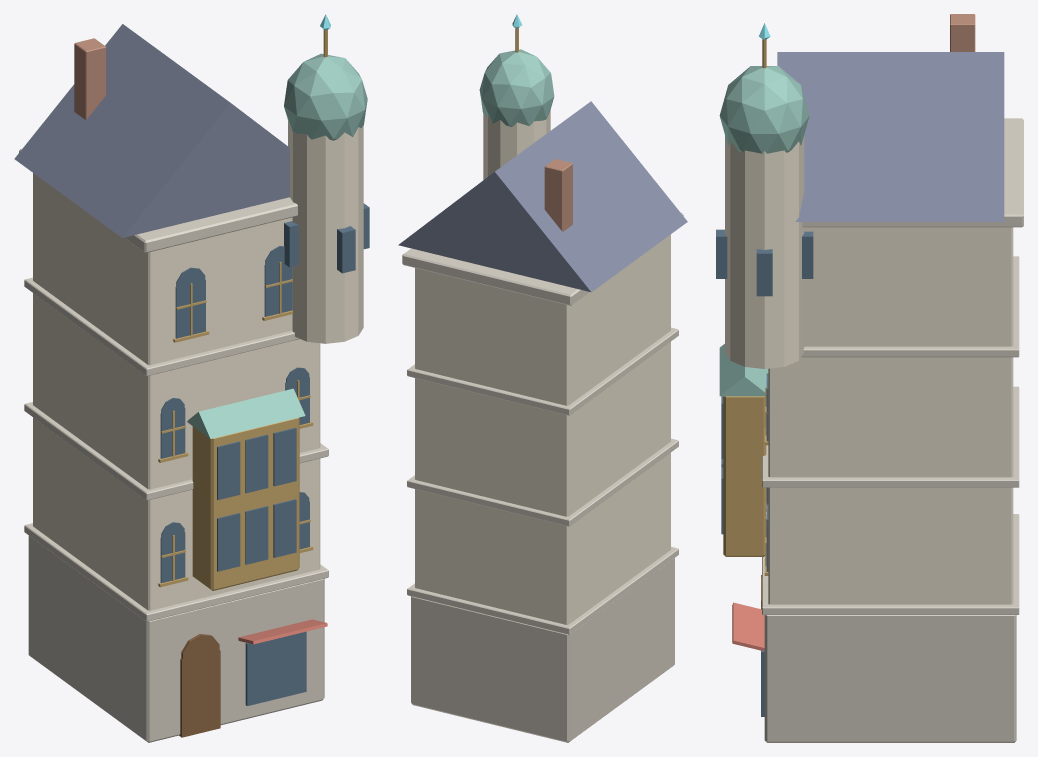
File: Cite_MaisonB.fbx
The picture shows the model from 3 angles, left to right: view 1: azimuth 30°, elevation 25°; view 2: azimuth 150°, elevation 25°; view 3: azimuth 270°, elevation 25°; orthographic projection. The views are drawn at different scales.
Visible parts, largest first — view 1: Cite_MaisonB_Enduit, Cite_MaisonB_Pierre, Cite_MaisonB_Ardoise, Cite_MaisonB_Vitre, Cite_MaisonB_Laiton, Cite_MaisonB_Cuivre, Cite_MaisonB_Bois, Cite_MaisonB_Brique, Cite_MaisonB_Toile; view 2: Cite_MaisonB_Enduit, Cite_MaisonB_Pierre, Cite_MaisonB_Ardoise, Cite_MaisonB_Cuivre, Cite_MaisonB_Brique; view 3: Cite_MaisonB_Enduit, Cite_MaisonB_Pierre, Cite_MaisonB_Ardoise, Cite_MaisonB_Cuivre, Cite_MaisonB_Laiton, Cite_MaisonB_Vitre, Cite_MaisonB_Toile, Cite_MaisonB_Brique.
Boxes of the visible parts, bbox=[...] form: Cite_MaisonB_Enduit: bbox=[33, 121, 363, 610]; Cite_MaisonB_Pierre: bbox=[19, 149, 328, 742]; Cite_MaisonB_Ardoise: bbox=[14, 24, 289, 237]; Cite_MaisonB_Vitre: bbox=[160, 203, 369, 705]; Cite_MaisonB_Laiton: bbox=[158, 29, 327, 590]; Cite_MaisonB_Cuivre: bbox=[187, 53, 367, 438]; Cite_MaisonB_Bois: bbox=[179, 634, 220, 737]; Cite_MaisonB_Brique: bbox=[74, 38, 106, 119]; Cite_MaisonB_Toile: bbox=[238, 619, 327, 644]; Cite_MaisonB_Enduit: bbox=[415, 110, 670, 624]; Cite_MaisonB_Pierre: bbox=[402, 212, 683, 742]; Cite_MaisonB_Ardoise: bbox=[398, 101, 687, 292]; Cite_MaisonB_Cuivre: bbox=[479, 49, 554, 126]; Cite_MaisonB_Brique: bbox=[544, 159, 572, 231]; Cite_MaisonB_Enduit: bbox=[725, 135, 1013, 604]; Cite_MaisonB_Pierre: bbox=[762, 118, 1023, 742]; Cite_MaisonB_Ardoise: bbox=[777, 52, 1004, 221]; Cite_MaisonB_Cuivre: bbox=[719, 66, 809, 396]; Cite_MaisonB_Laiton: bbox=[723, 39, 768, 575]; Cite_MaisonB_Vitre: bbox=[716, 229, 813, 716]; Cite_MaisonB_Toile: bbox=[732, 602, 764, 650]; Cite_MaisonB_Brique: bbox=[950, 14, 975, 51].
Size of the model in its own units: 16 by 44.2 by 17.1.
